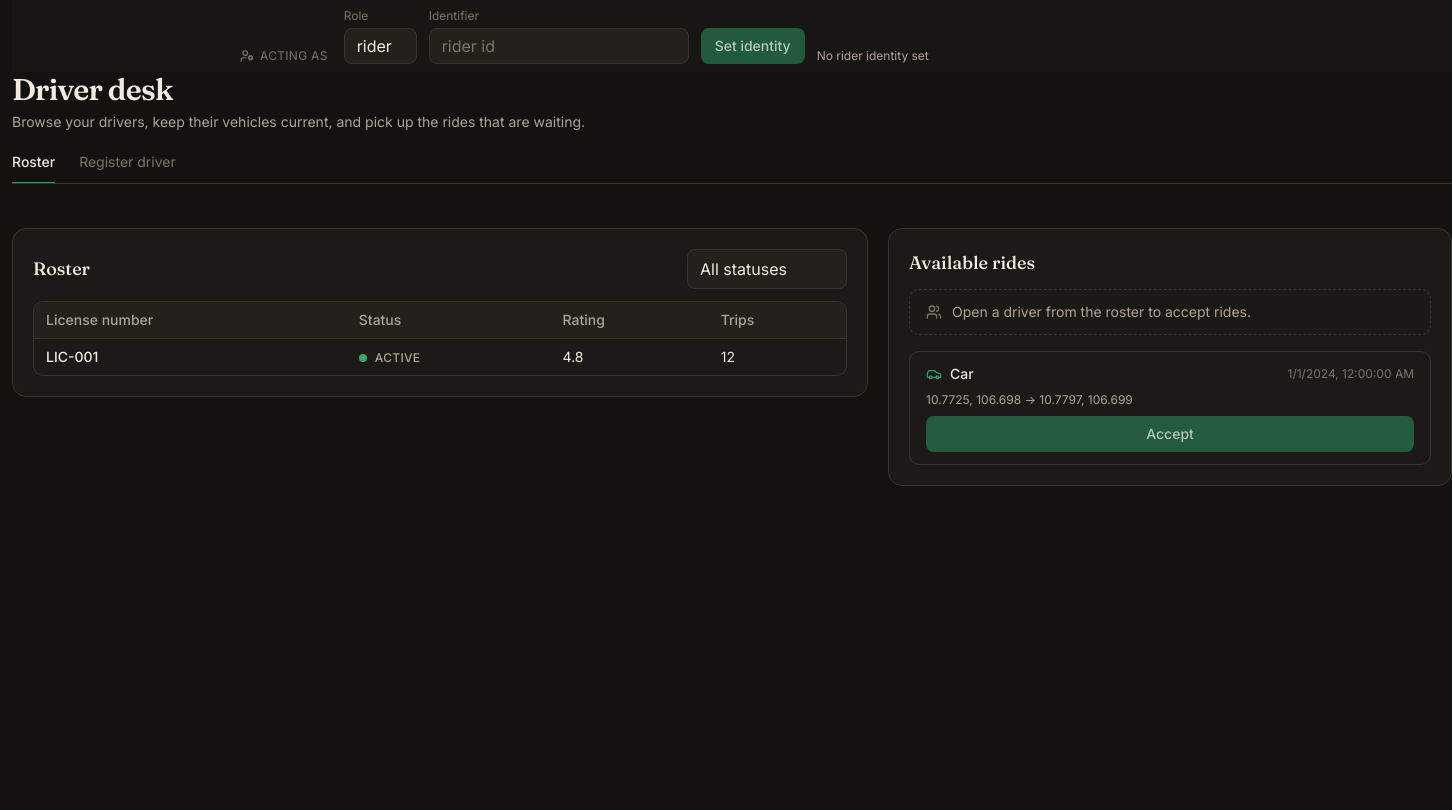
Test: Feature: ridenow-frontend, driver roster › accepts a ride and refetches so the taken ride drops out
Note: Open a driver first (required to accept).
Step 1. Click the button with aria-label "Open driver LIC-001" → {"x": 72, "y": 356}, box [34,338,846,375]
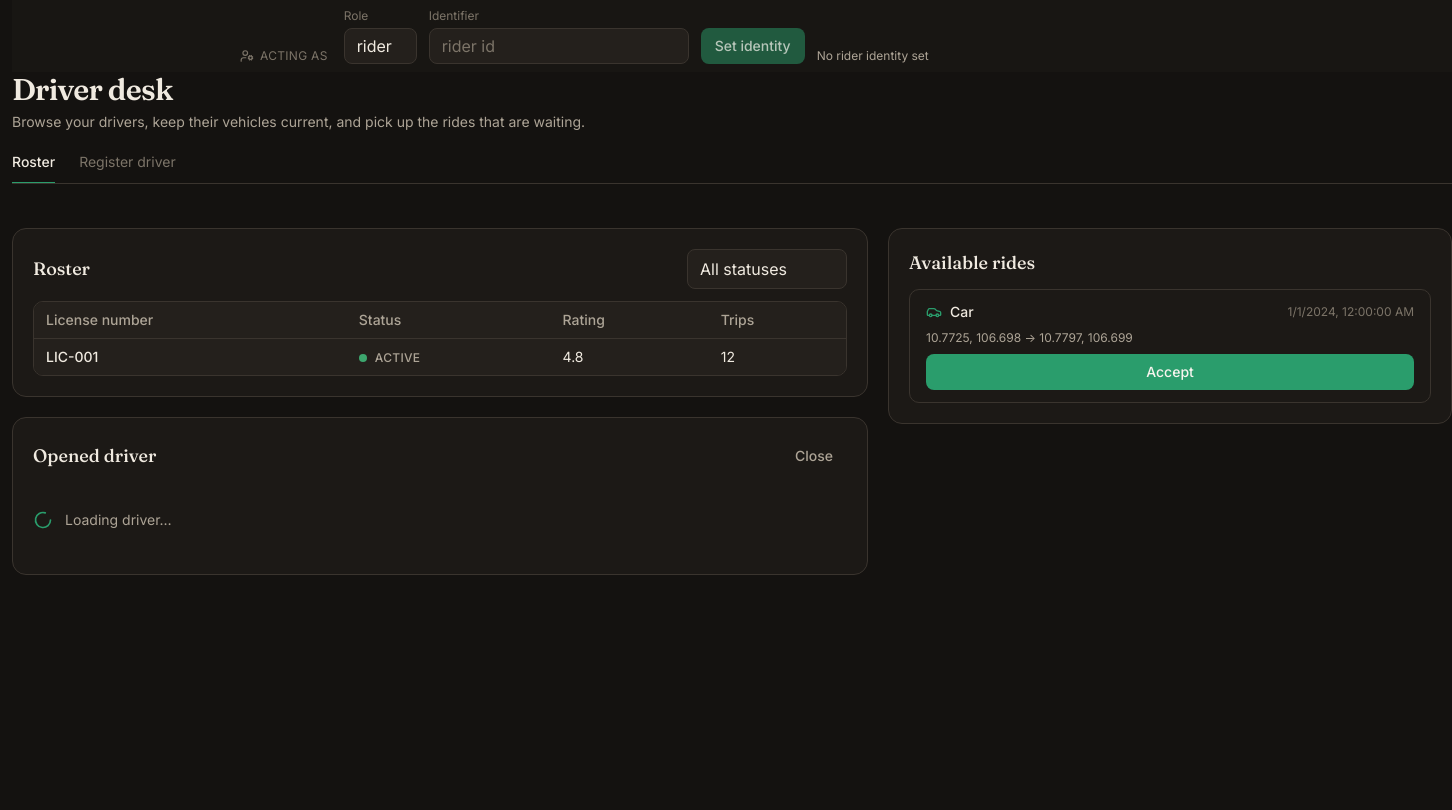
Step 2. Click the button "Accept" → {"x": 1170, "y": 372}, box [926,354,1414,390]
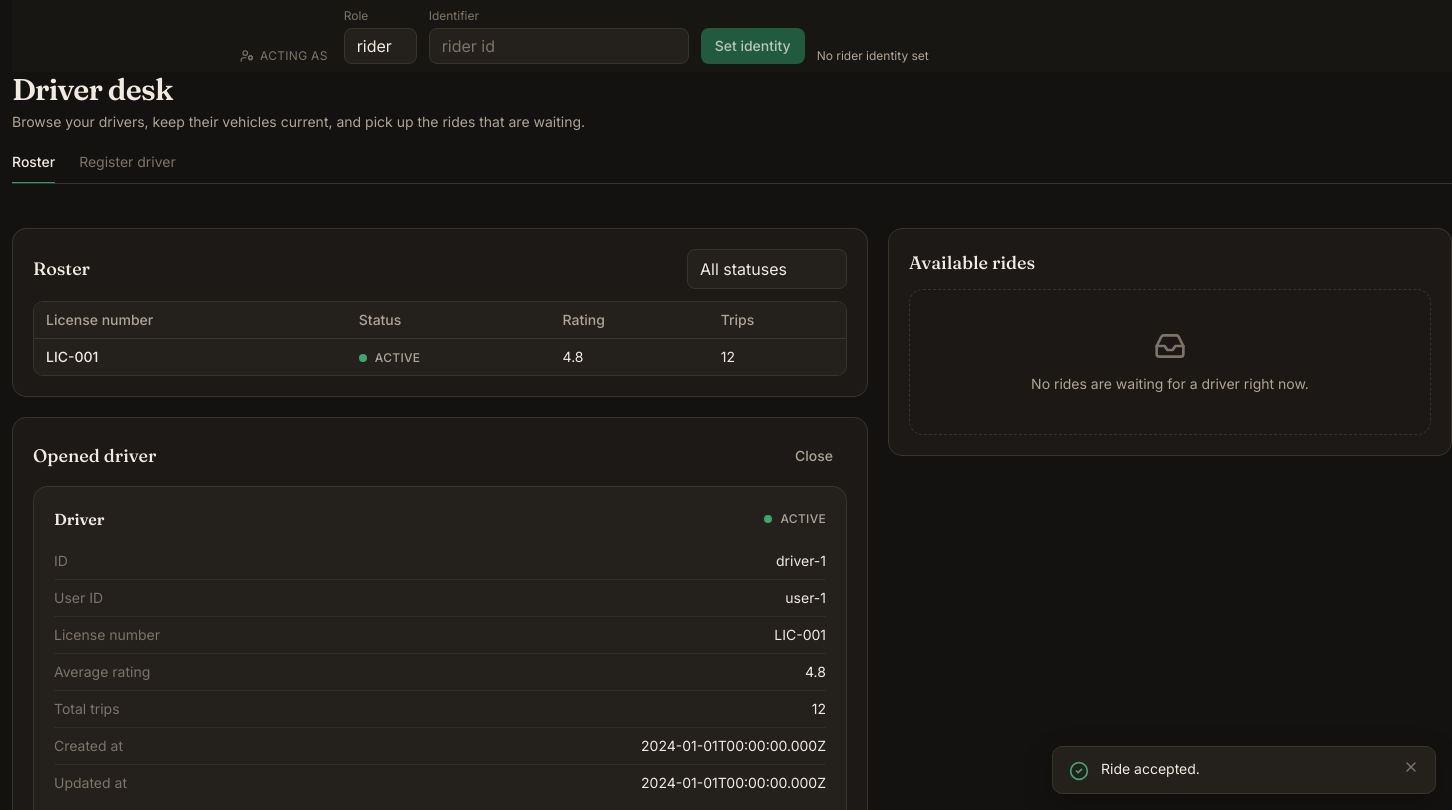
Expected: the text "No rides are waiting for a driver right now." is shown, [1031,374,1309,394]
